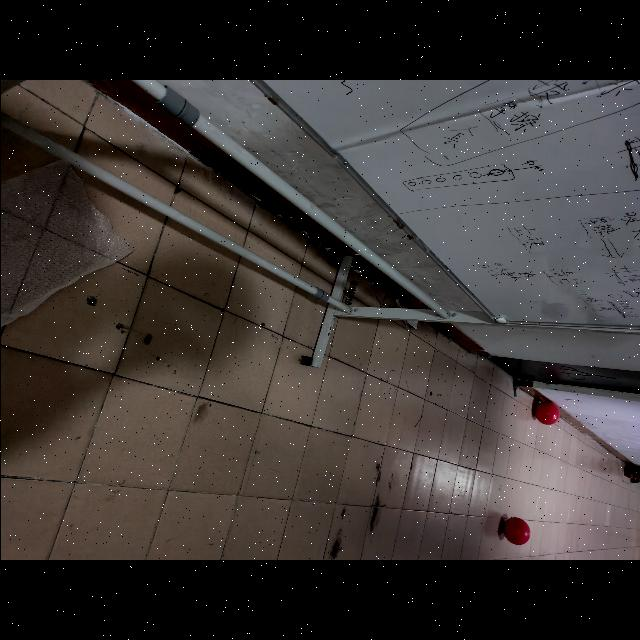R: (501, 518, 529, 548), (532, 402, 558, 426)
